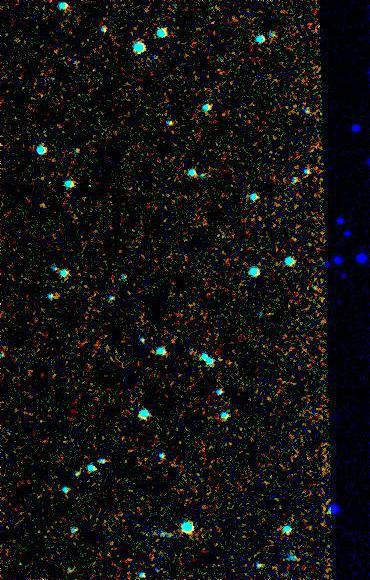star: (49, 284, 79, 314)
